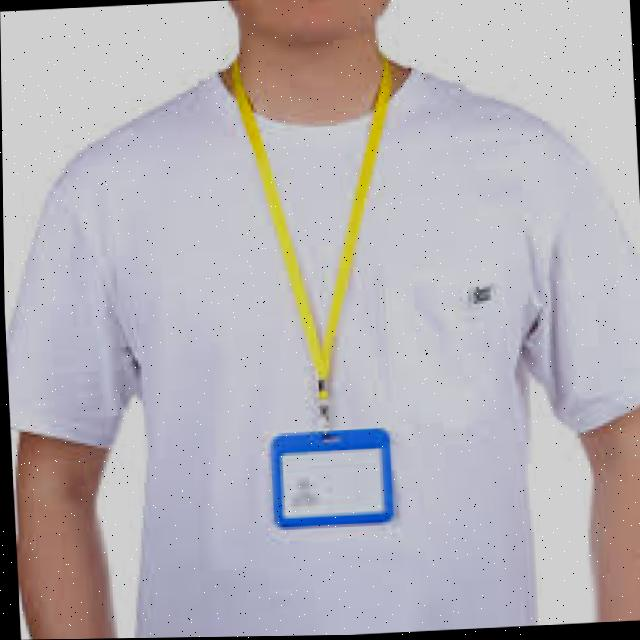id_card: (218, 52, 428, 547)
